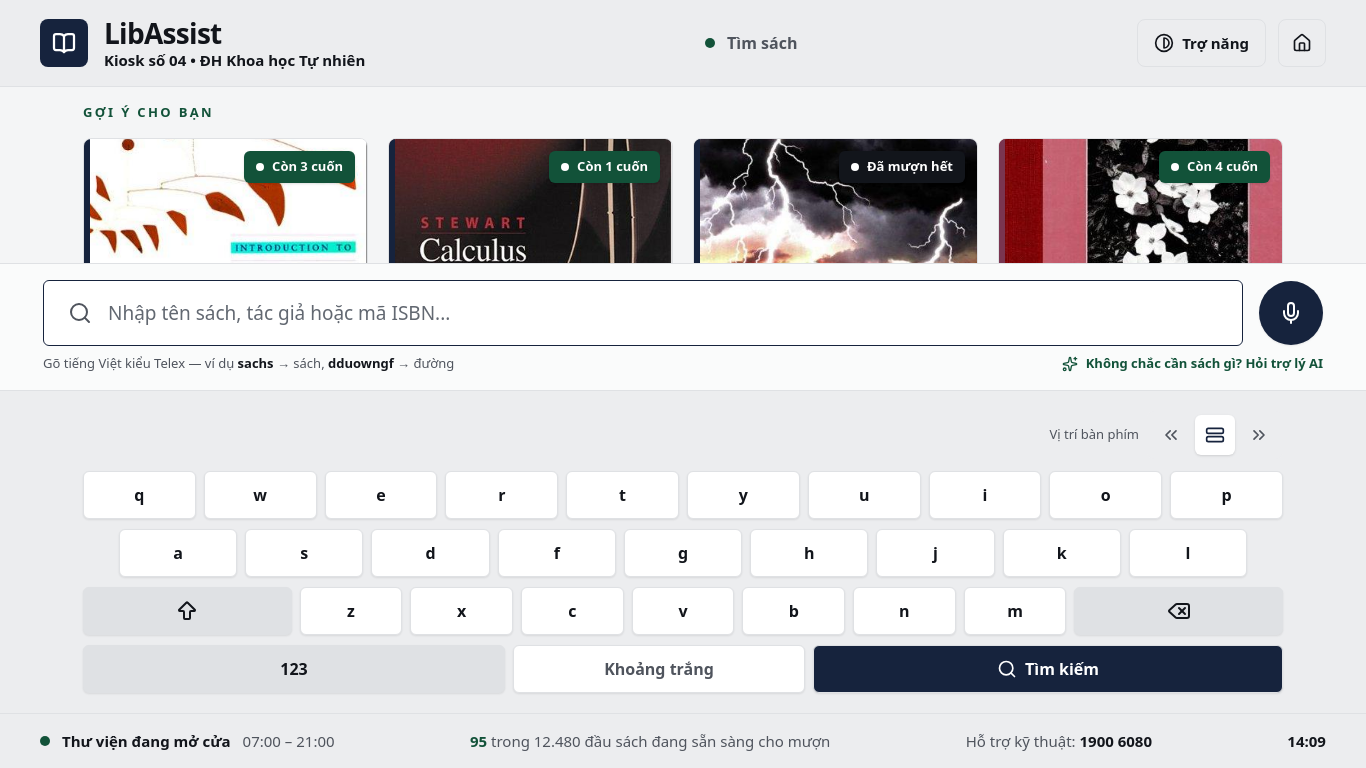
Test: Voice search — when the browser supports it › previews the partial transcript while the user is still speaking
Click the button named "Tìm bằng giọng nói": (1291, 313) [1259,281,1323,345]
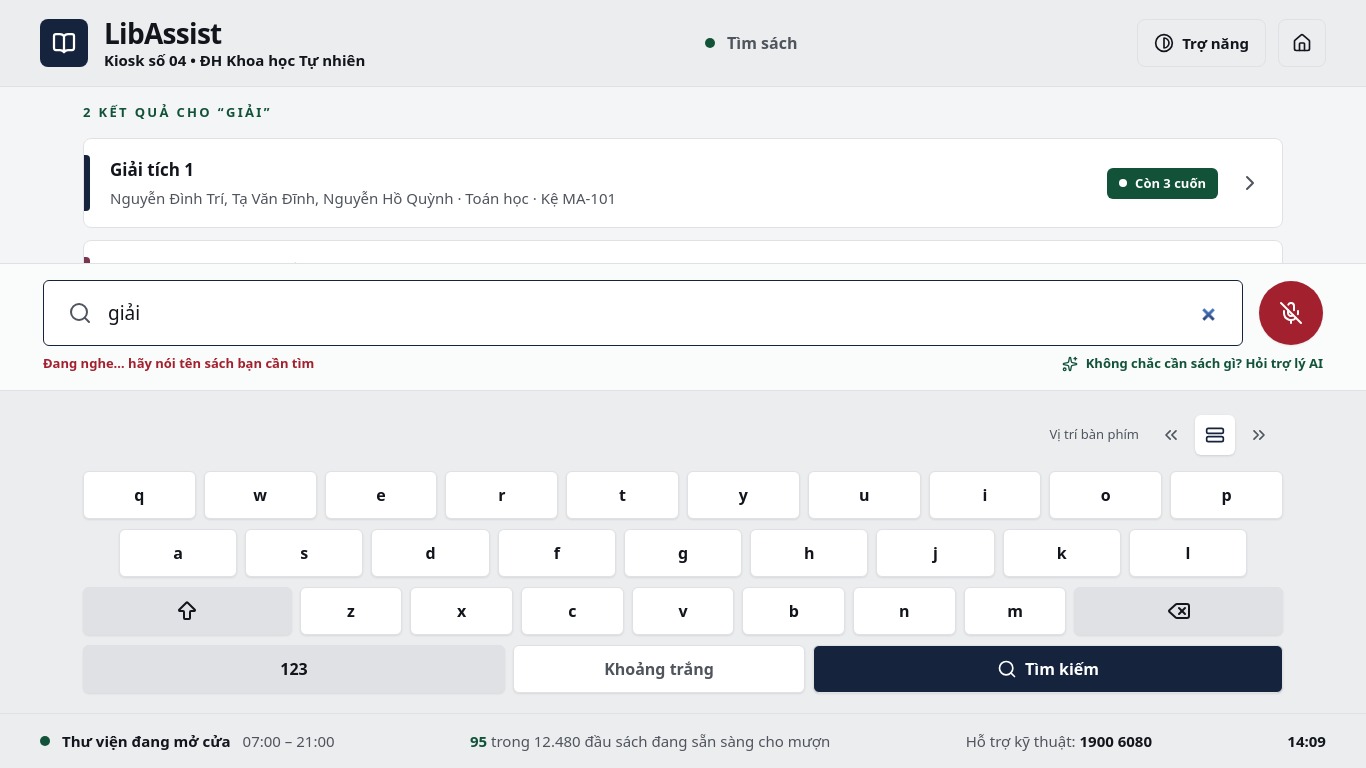
Result: the search field holds "giải" at [108,281,1218,345]
